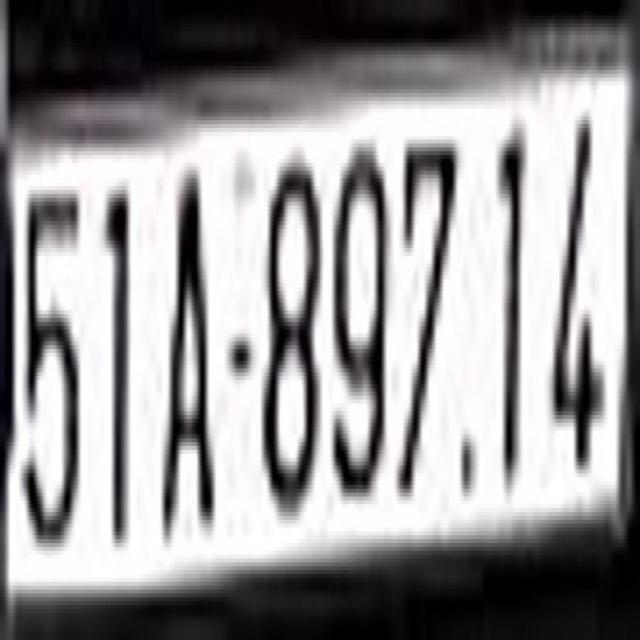1: (493, 116, 524, 492), (104, 178, 133, 547)
4: (548, 93, 610, 481)
5: (23, 167, 82, 547)
7: (392, 132, 460, 504)
8: (257, 143, 321, 528)
9: (326, 143, 384, 520)
A: (160, 152, 218, 536)
